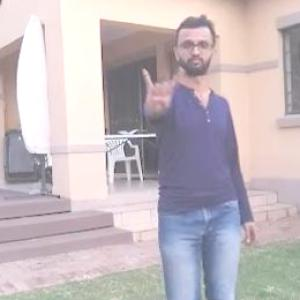takeoff-hand: (135, 60, 190, 118)
